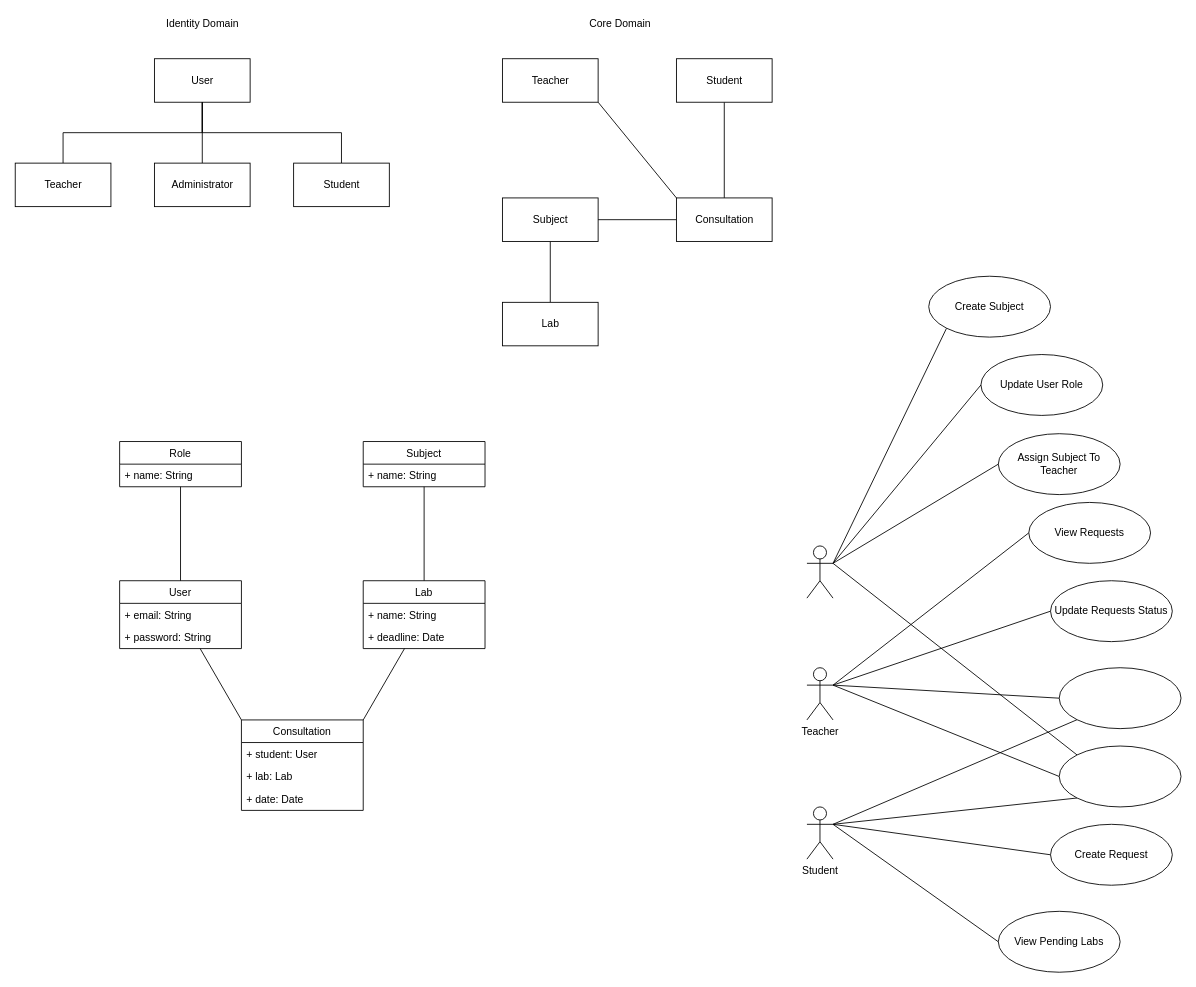
Image size: 1196x987. Some labels were removed from this diagram. The centre of each missing label's shape, as x and y in pixels:
"Administartor" belongs at (819,571).
"Create Account" belongs at (1119,698).
"Log-in To Account" belongs at (1119,776).
